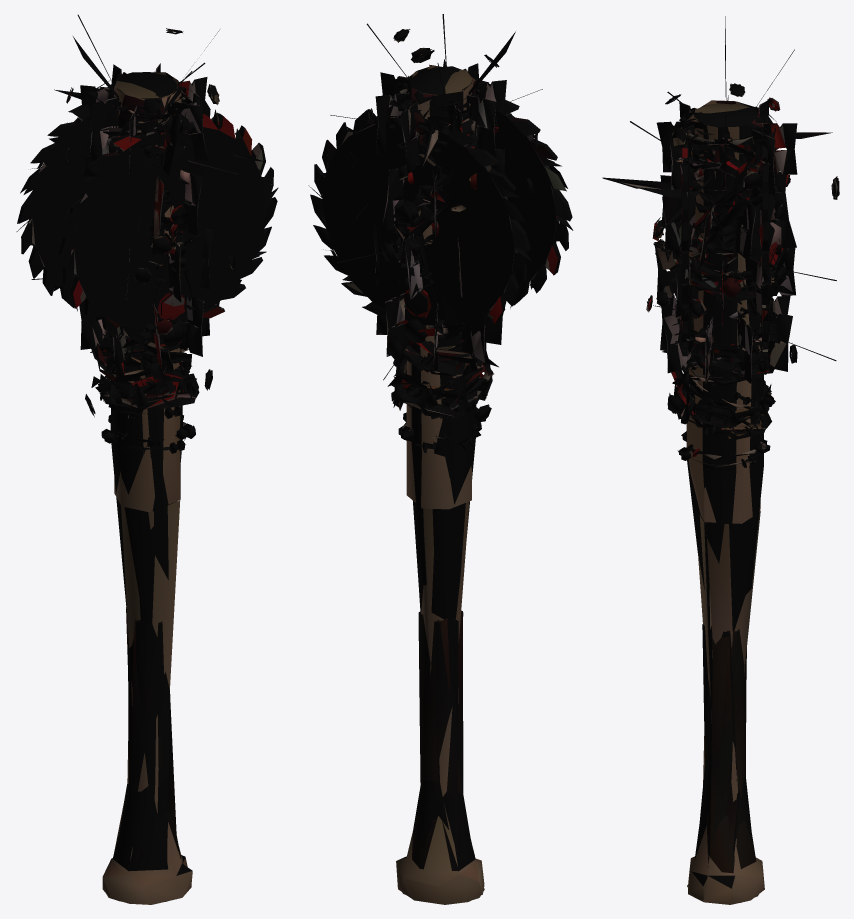
3 views of the same model, side by side, from view 1: azimuth 30°, elevation 25°; view 2: azimuth 150°, elevation 25°; view 3: azimuth 270°, elevation 25° (orthographic). The views are drawn at different scales.
Parts seen in each view (by area): view 1: mesh_0; view 2: mesh_0; view 3: mesh_0.
Boxes of the visible parts, left/top/right/bottom form: mesh_0: left=16, top=14, right=278, bottom=904; mesh_0: left=308, top=14, right=573, bottom=904; mesh_0: left=602, top=16, right=839, bottom=904.
Size of the model in its own units: 8.9 by 33.19 by 8.5.
1 material, 1 textured.
